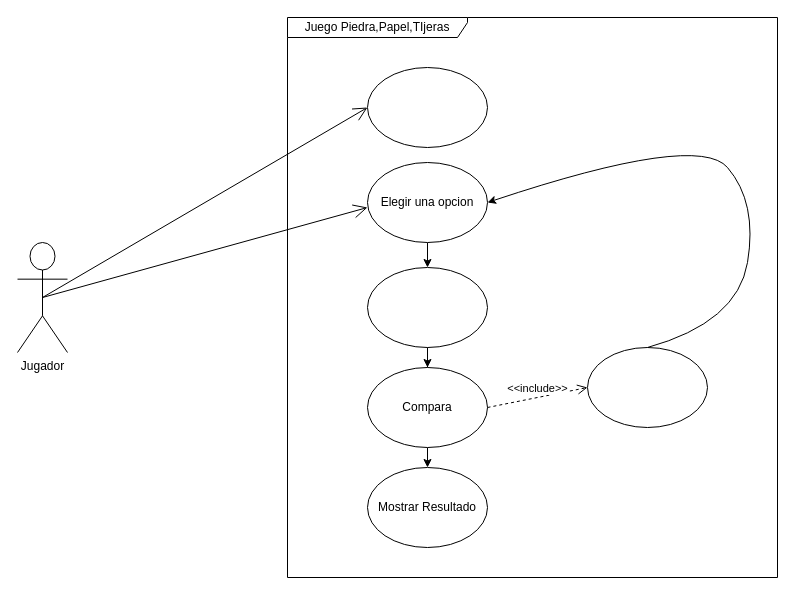
Some shapes in this 795 by 595 pixel diagram are drawn without their labels. Here are the shapes that lost their labels. From the top down, the centre of each, then its label:
(x=427, y=107): Iniciar partida
(x=427, y=307): El sistema escoge una opcion aleatoria
(x=647, y=387): Volver a jugar si hay empate
